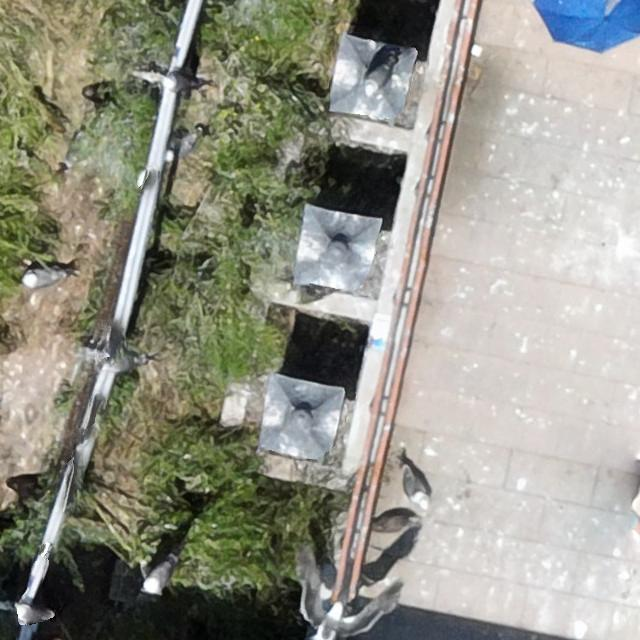F: (295, 564, 393, 639)
umineko: (365, 55, 394, 97), (145, 560, 174, 594), (162, 73, 208, 93), (16, 606, 53, 623), (27, 268, 60, 287), (406, 469, 426, 500), (179, 134, 195, 158)
